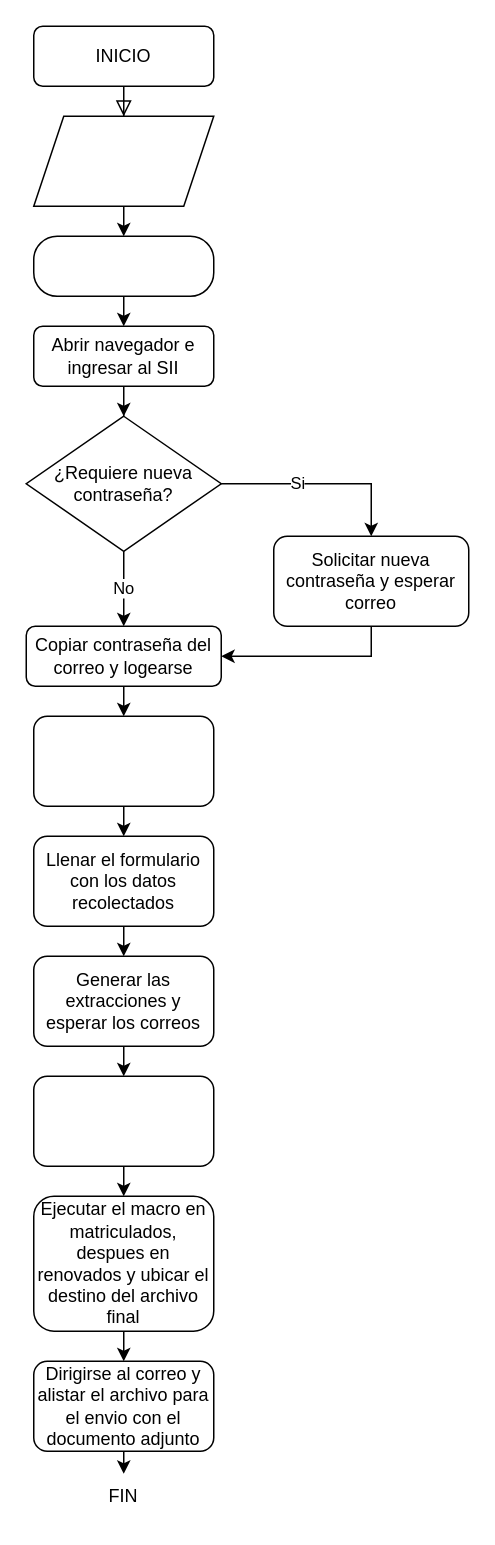
Image size: 495x1545. Some labels were removed from this diagram. The shapes that lost their labels are listed below. From the top down, each one's centre as x and y in pixels, then its label:
At (123,160): "Solicitar datos al usuario".
At (123,265): "Procesar datos".
At (123,760): "Dirigirse a la opcion de extraccion de matriculados".
At (123,1120): "Descargar los archivos, Renombrarlos y abrirlos".
